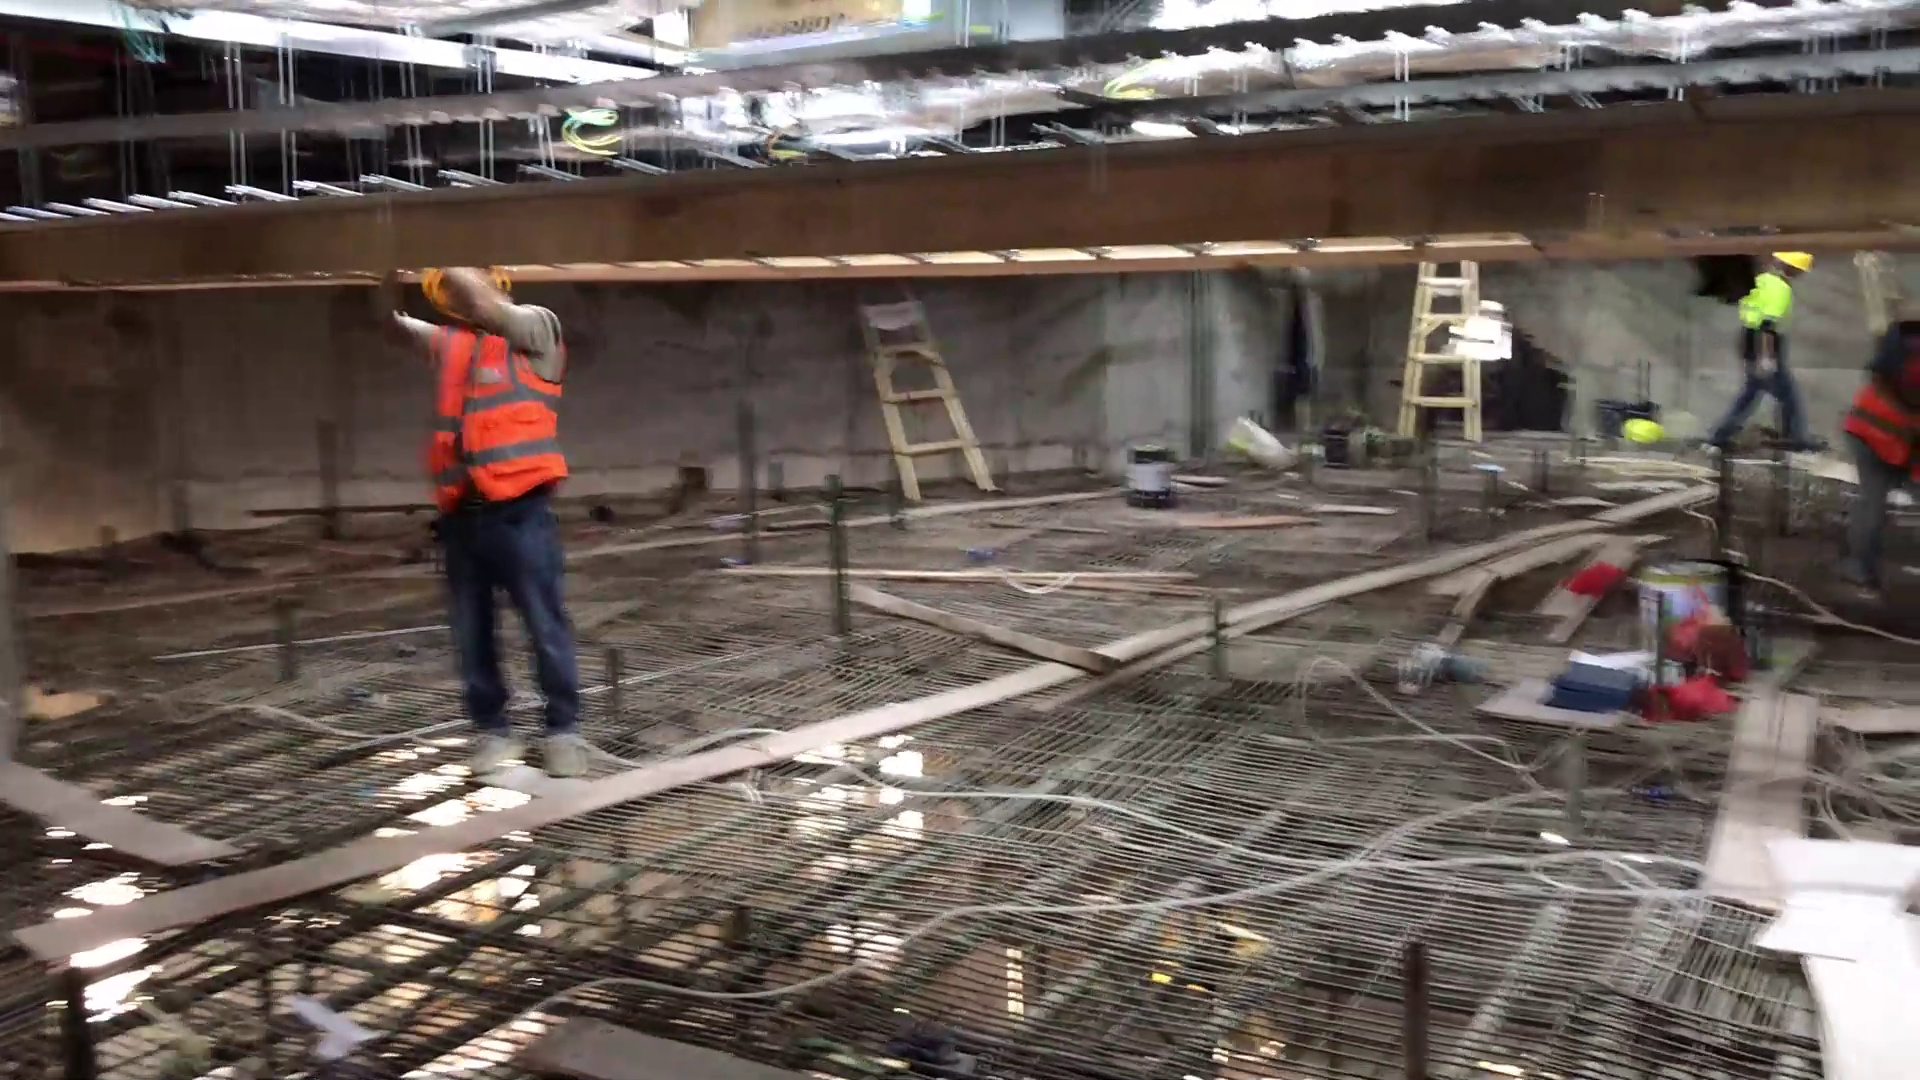helmet: (1617, 407, 1664, 446), (1771, 238, 1813, 269)
person: (360, 232, 592, 770), (1842, 289, 1920, 632), (1729, 237, 1822, 464)
vest: (408, 323, 571, 492), (1845, 332, 1920, 468)
